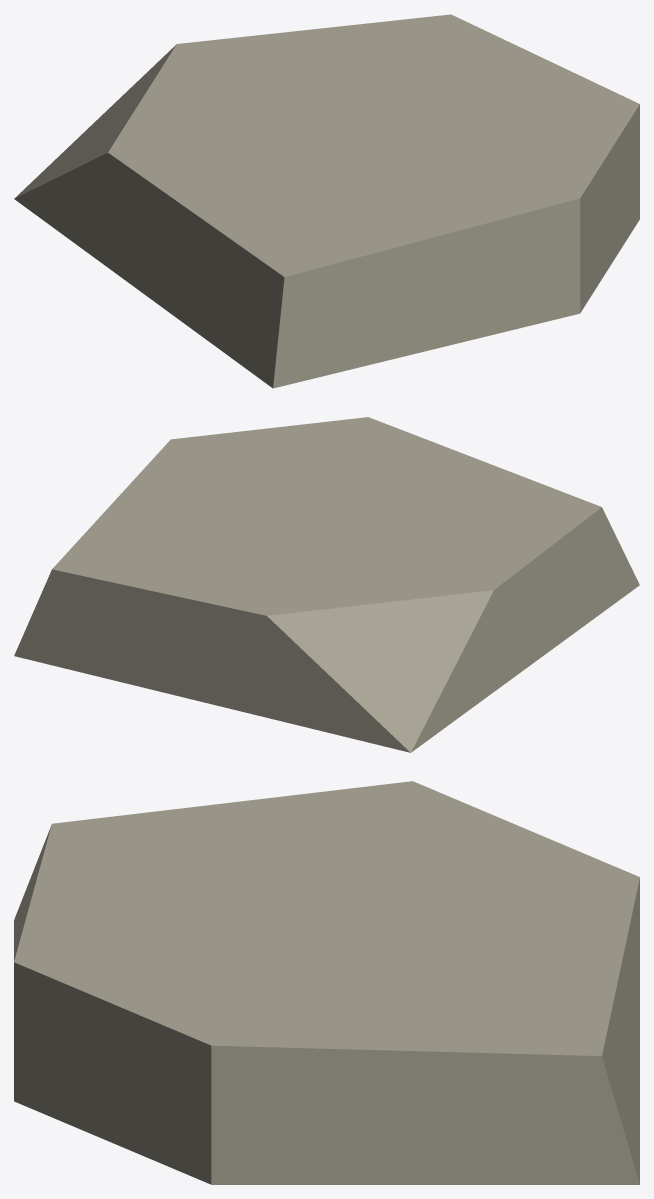
File: Rock7_tex.fbx
The picture shows the model from 3 angles, top to bottom: view 1: azimuth 30°, elevation 25°; view 2: azimuth 150°, elevation 25°; view 3: azimuth 270°, elevation 25°; orthographic projection. The views are drawn at different scales.
Parts seen in each view (by area): view 1: Rock7_tex; view 2: Rock7_tex; view 3: Rock7_tex.
Part boxes in pixels (x1,y1,x2,y2): Rock7_tex: [14, 14, 639, 388]; Rock7_tex: [14, 417, 639, 752]; Rock7_tex: [14, 781, 639, 1184].
Bounding box in the file's own units: 0.3378 × 0.0829 × 0.3378.
